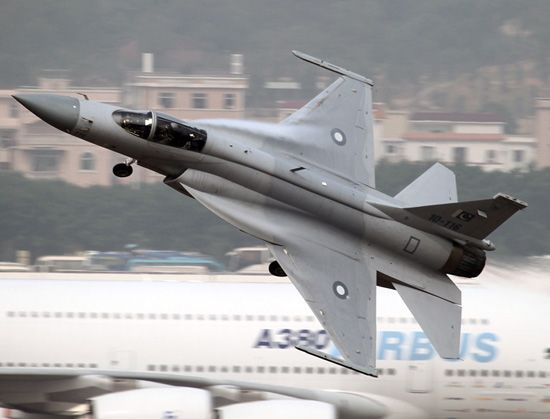airplane: (10, 47, 527, 375)
